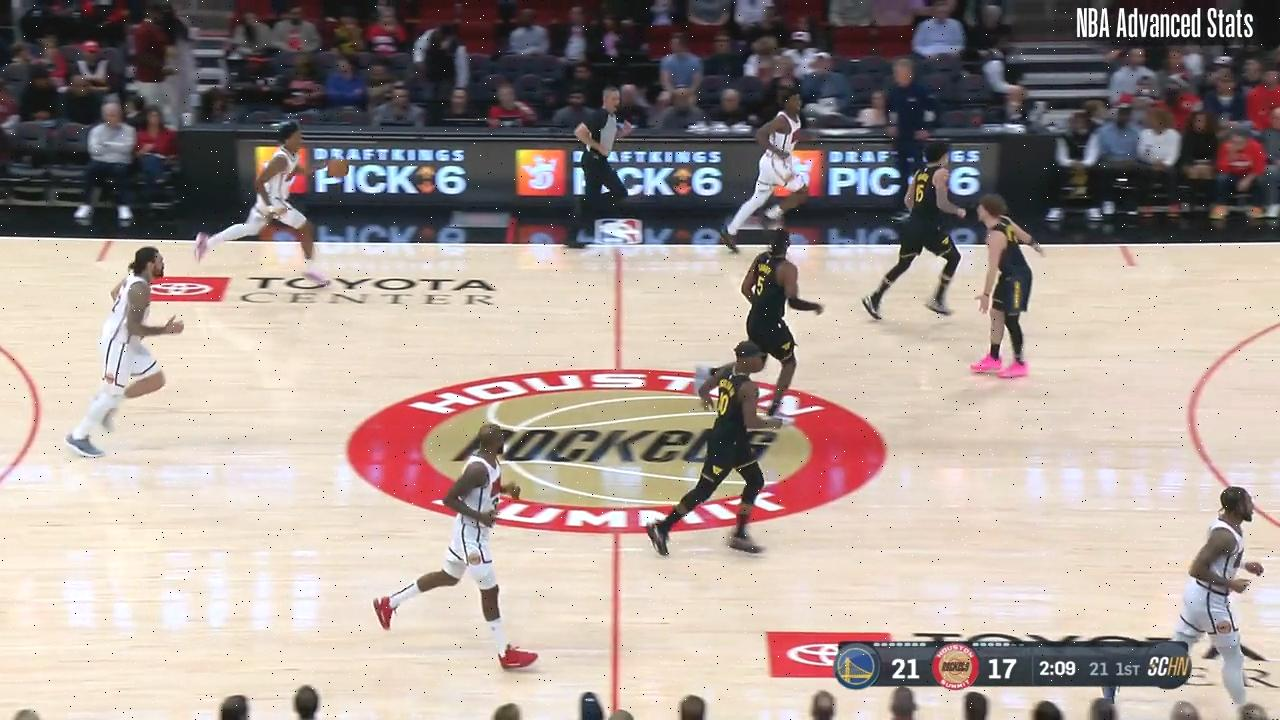basketball: (326, 154, 350, 183)
